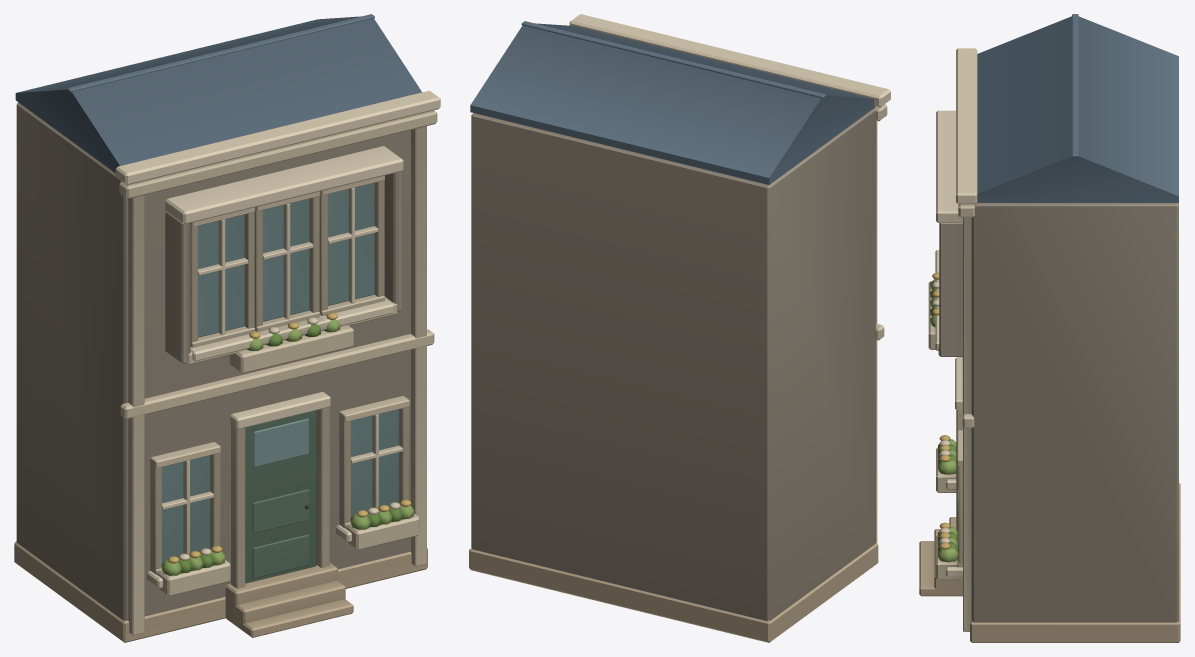
File: facade_generic_3.glb
3 views of the same model, side by side, from view 1: azimuth 30°, elevation 25°; view 2: azimuth 150°, elevation 25°; view 3: azimuth 270°, elevation 25° (orthographic). The views are drawn at different scales.
Visible parts, largest first — view 1: facade_generic_3; view 2: facade_generic_3; view 3: facade_generic_3.
Boxes of the visible parts, <box> form: facade_generic_3: <box>14,14,440,642</box>; facade_generic_3: <box>469,14,890,642</box>; facade_generic_3: <box>919,14,1180,642</box>.
Size of the model in its own units: 4.18 by 6.51 by 3.15.
